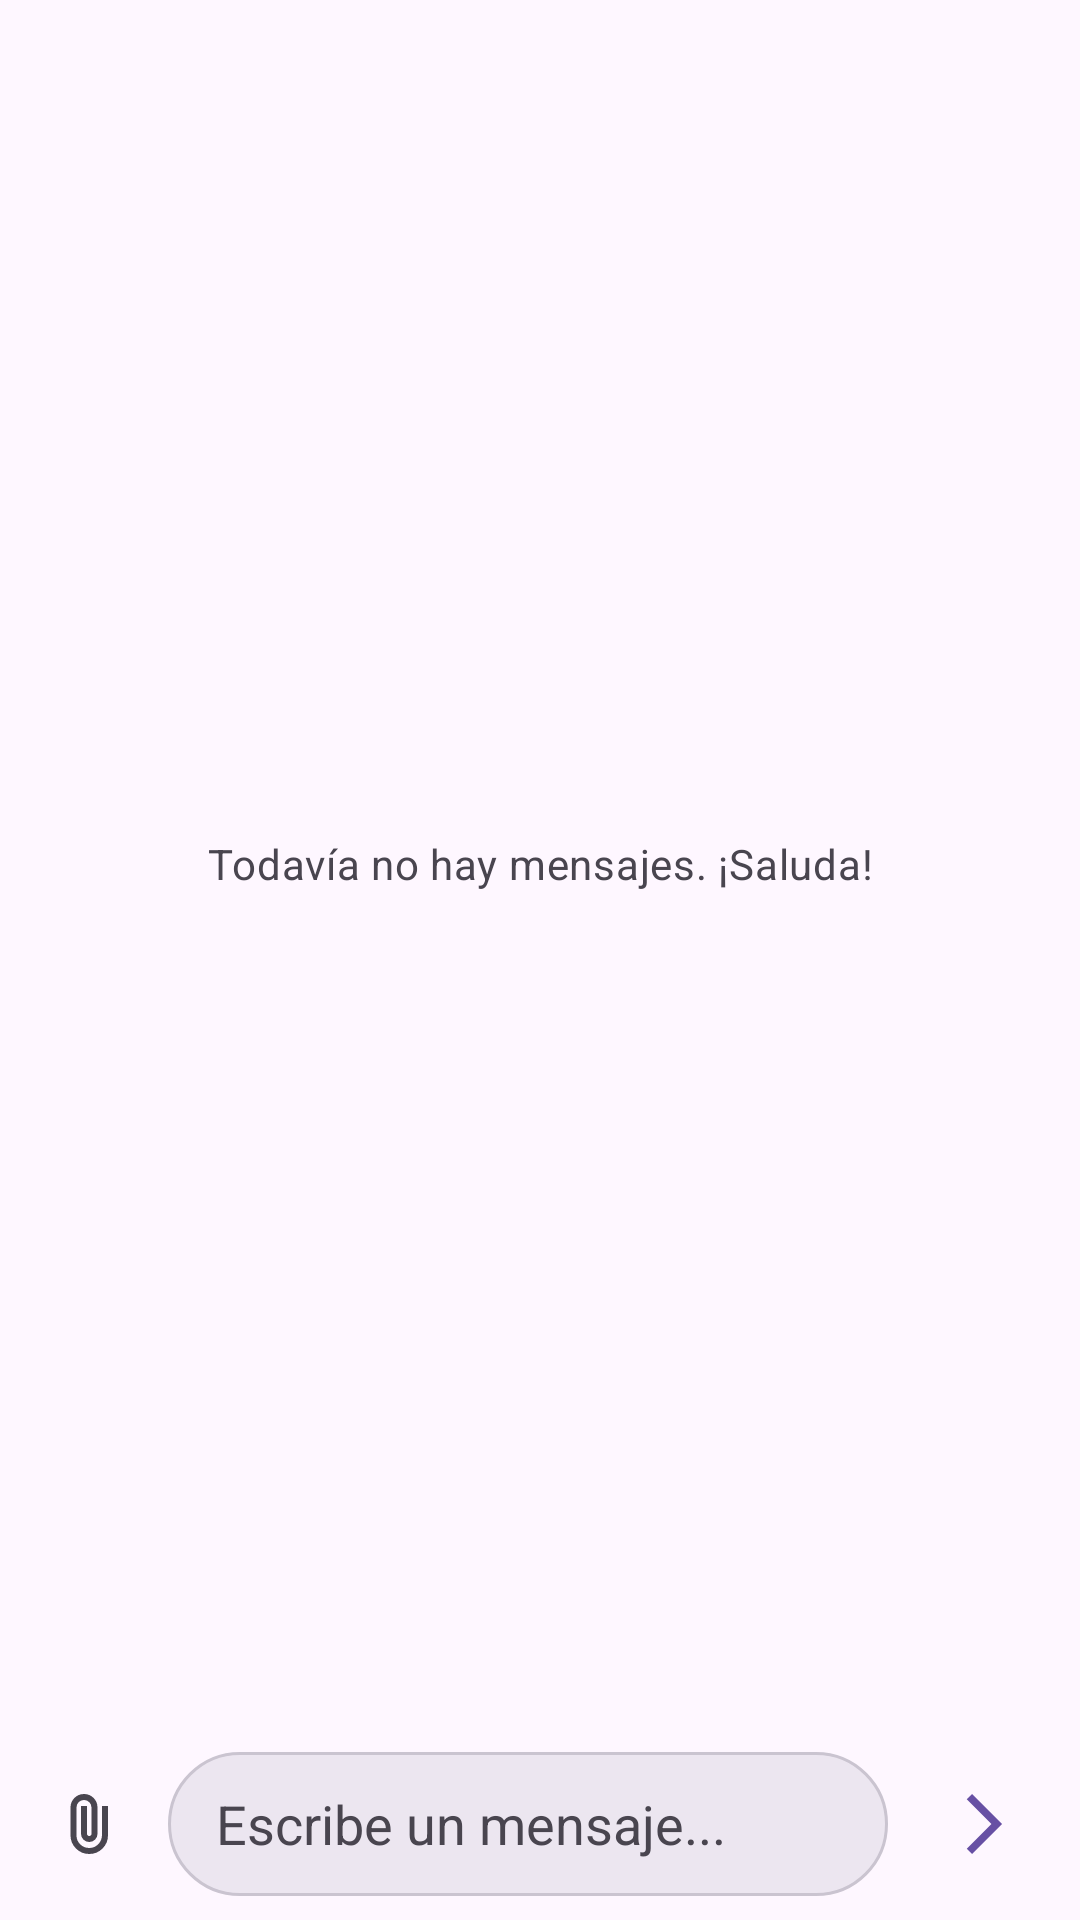

Locate icon controls on the screen. Image size 1080 x 1920, boxes as (x1, y1, x2, y2).
Adjuntar imagen: (70, 1794, 108, 1854)
